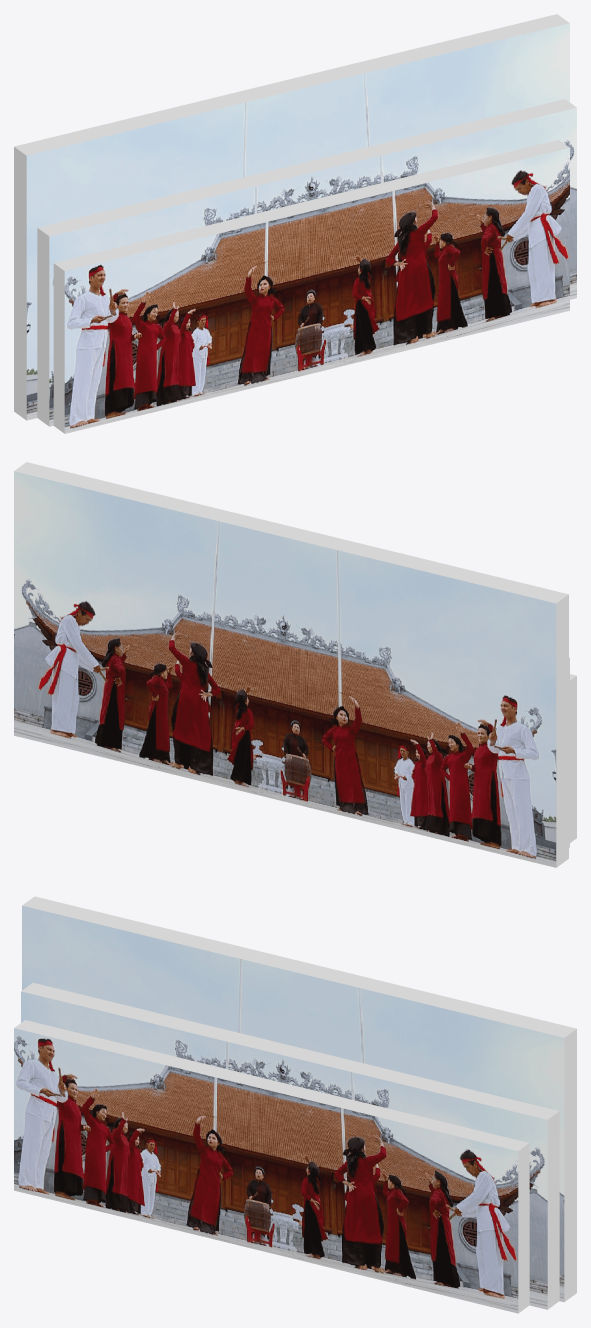
File: hatxoan.glb
3 renders of one model, top to bottom at view 1: azimuth 30°, elevation 25°; view 2: azimuth 150°, elevation 25°; view 3: azimuth 330°, elevation 25°, orthographic.
Parts seen in each view (by area): view 1: hatxoan; view 2: hatxoan; view 3: hatxoan.
Part boxes in pixels (x1,y1,x2,y2): hatxoan: [14, 14, 576, 433]; hatxoan: [14, 462, 576, 867]; hatxoan: [14, 896, 576, 1313].
Size of the model in its own units: 5.99 by 2.79 by 0.6837.
Materials: 1 (1 with a texture image).
